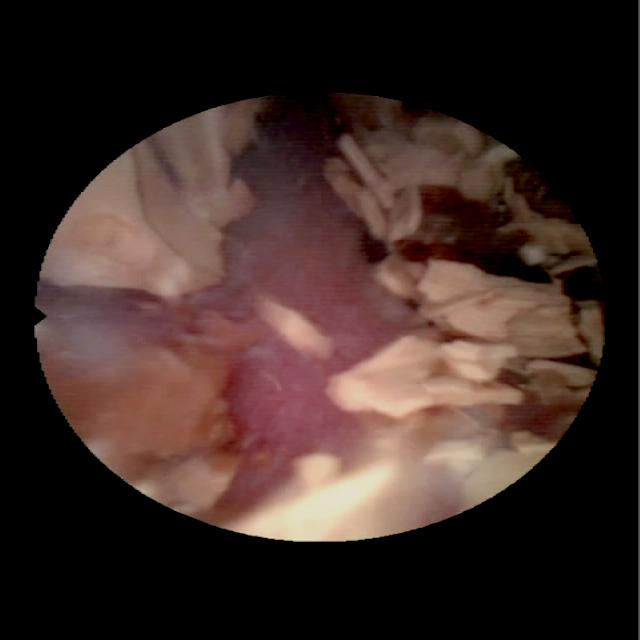stone: (41, 99, 593, 533), (48, 99, 280, 296), (256, 298, 330, 357)
